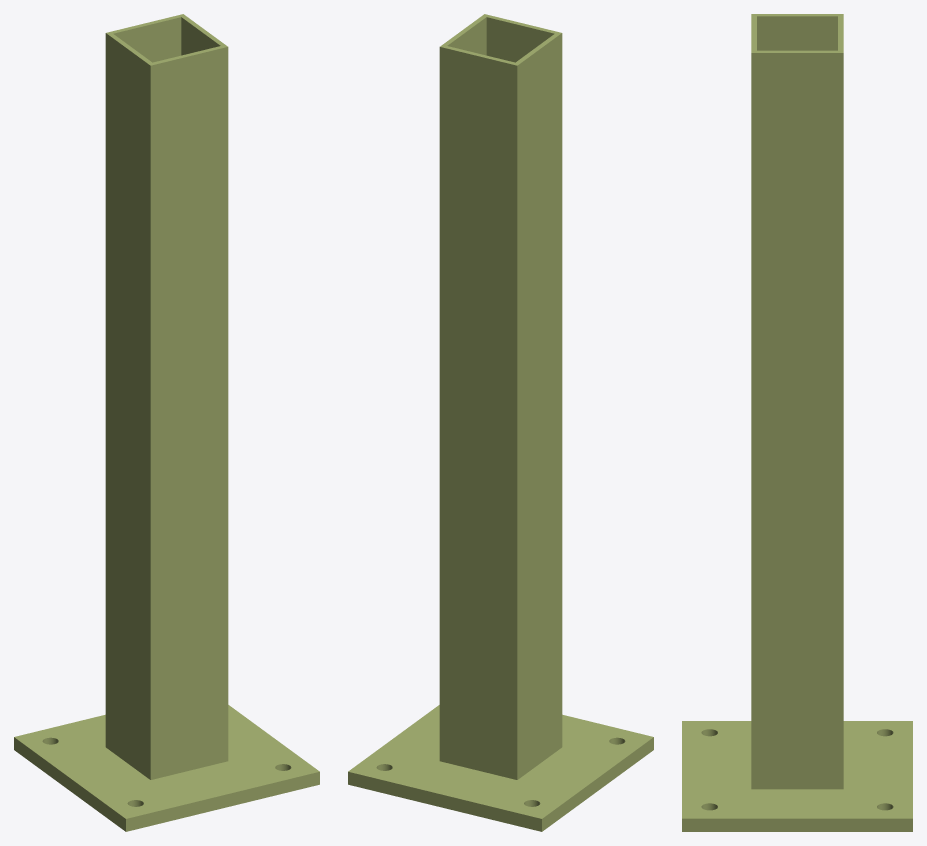
The model's file is step_62.glb.
3 views of the same model, side by side, from view 1: azimuth 30°, elevation 25°; view 2: azimuth 150°, elevation 25°; view 3: azimuth 270°, elevation 25° (orthographic). The views are drawn at different scales.
Parts seen in each view (by area): view 1: part__pipe support SP-101, tall; view 2: part__pipe support SP-101, tall; view 3: part__pipe support SP-101, tall.
Boxes of the visible parts, box(x1,y1,x2,y2) form: part__pipe support SP-101, tall: box(14, 14, 319, 831); part__pipe support SP-101, tall: box(348, 14, 653, 831); part__pipe support SP-101, tall: box(682, 14, 912, 831).
Size of the model in its own units: 250 by 896 by 250.
